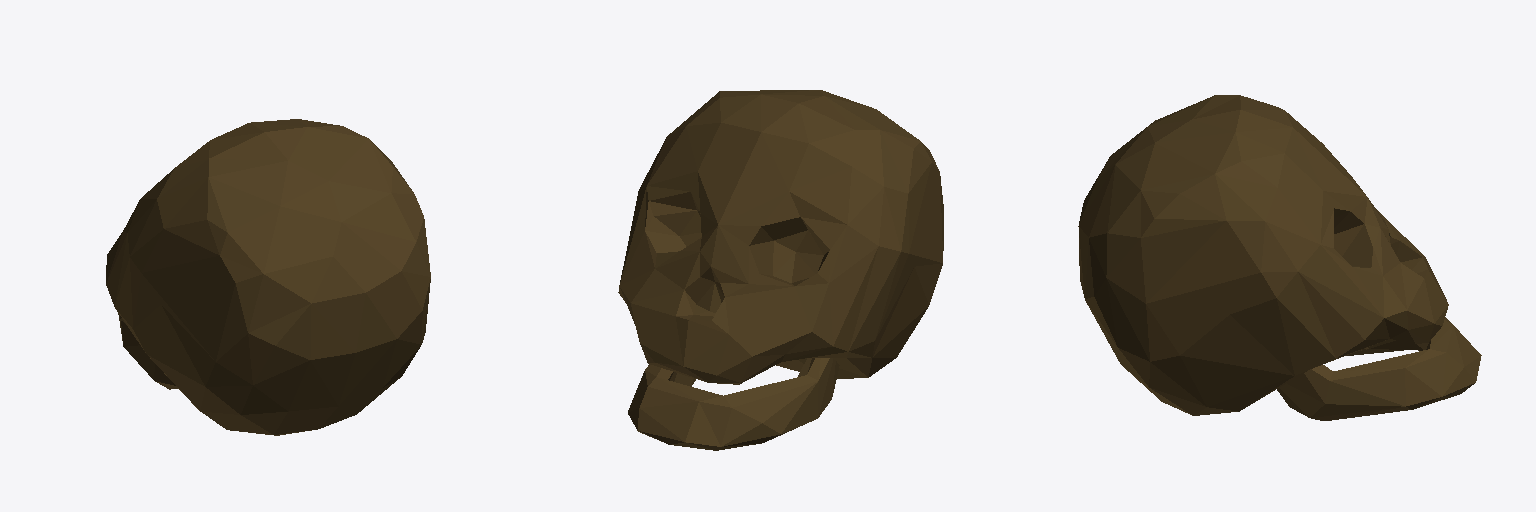
The model's file is Skull.obj.
The picture shows the model from 3 angles: view 1: azimuth 30°, elevation 25°; view 2: azimuth 150°, elevation 25°; view 3: azimuth 270°, elevation 25°; orthographic projection.
Parts seen in each view (by area): view 1: Skull; view 2: Skull; view 3: Skull.
Boxes of the visible parts, x1,y1,x2,y2 form: Skull: [106, 119, 430, 435]; Skull: [618, 90, 943, 450]; Skull: [1078, 95, 1481, 420].
Size of the model in its own units: 0.4436 by 0.4606 by 0.5966.